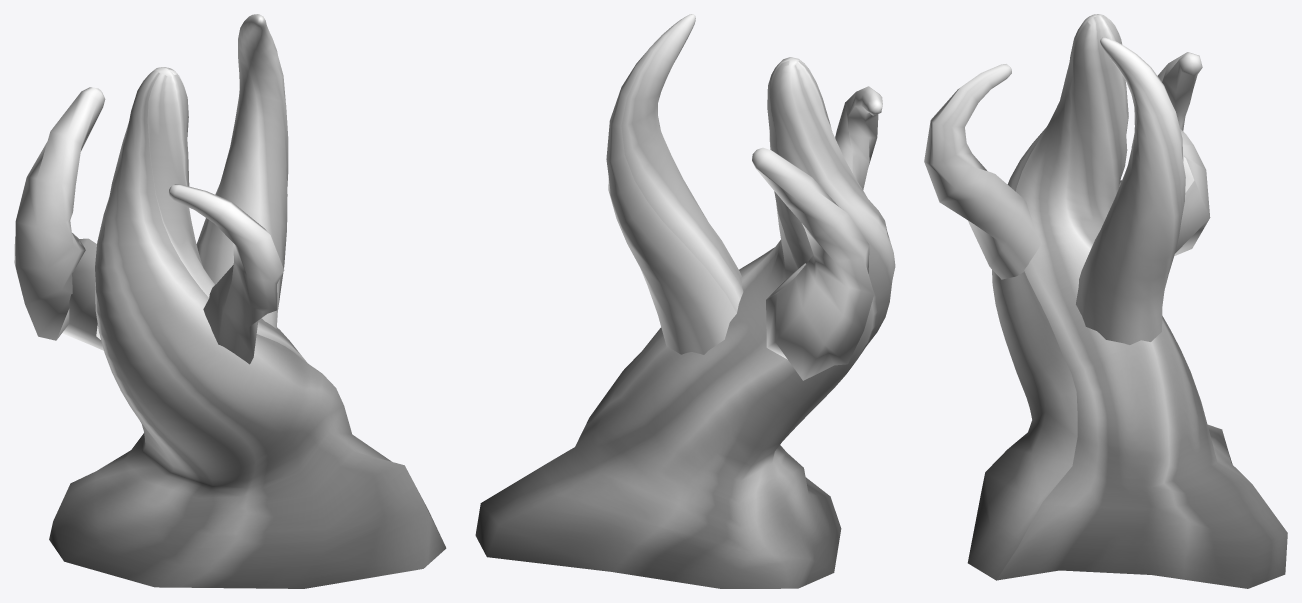
File: DeadwoodTestTree.fbx
3 views of the same model, side by side, from view 1: azimuth 30°, elevation 25°; view 2: azimuth 150°, elevation 25°; view 3: azimuth 270°, elevation 25° (orthographic). The views are drawn at different scales.
Parts seen in each view (by area): view 1: NurbsPath.004, NurbsPath.009, NurbsPath.005, NurbsPath.010; view 2: NurbsPath.004, NurbsPath.005, NurbsPath.009, NurbsPath.010; view 3: NurbsPath.004, NurbsPath.005, NurbsPath.010, NurbsPath.009.
Part boxes in pixels (x1,y1,x2,y2): NurbsPath.004: [49, 67, 446, 588]; NurbsPath.009: [14, 87, 105, 350]; NurbsPath.005: [196, 14, 288, 328]; NurbsPath.010: [168, 184, 284, 364]; NurbsPath.004: [475, 57, 895, 588]; NurbsPath.005: [606, 14, 743, 354]; NurbsPath.009: [752, 147, 874, 380]; NurbsPath.010: [835, 86, 882, 189]; NurbsPath.004: [967, 14, 1287, 588]; NurbsPath.005: [1076, 37, 1185, 344]; NurbsPath.010: [924, 64, 1041, 279]; NurbsPath.009: [1119, 52, 1210, 255].
Size of the model in its own units: 73.83 by 101 by 68.67.
